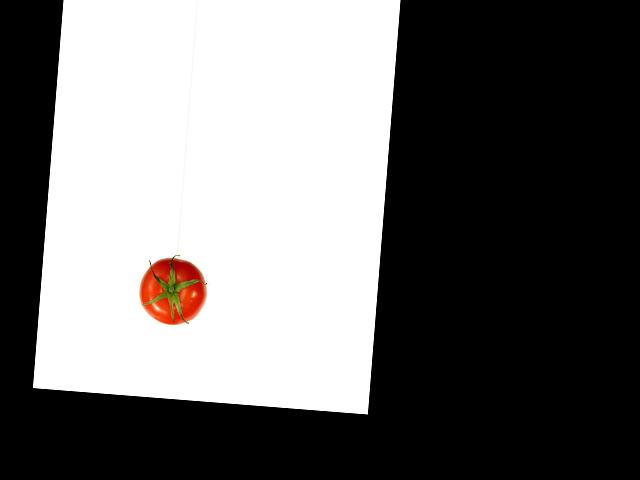tomato: (137, 255, 209, 328)
